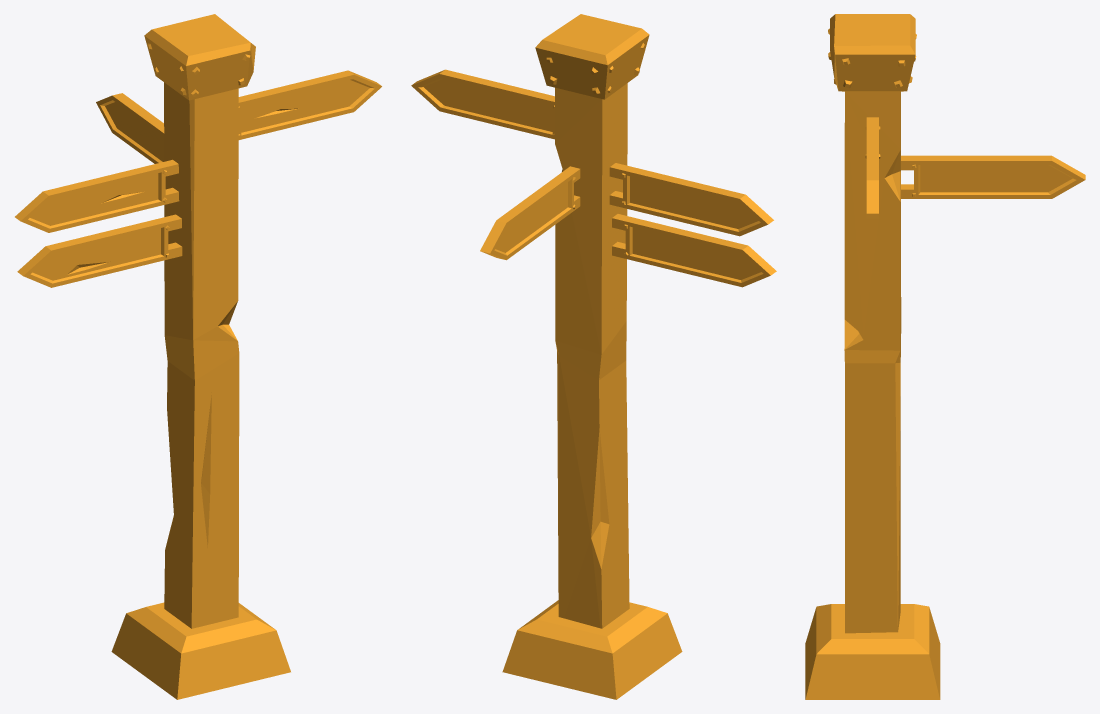
File: SM_Signpost_D_Fantasy.fbx
The picture shows the model from 3 angles, left to right: view 1: azimuth 30°, elevation 25°; view 2: azimuth 150°, elevation 25°; view 3: azimuth 270°, elevation 25°; orthographic projection. The views are drawn at different scales.
Visible parts, largest first — view 1: signpost-d-fantasy; view 2: signpost-d-fantasy; view 3: signpost-d-fantasy.
Boxes of the visible parts, box(x1,y1,x2,y2) form: signpost-d-fantasy: box(15, 14, 381, 699); signpost-d-fantasy: box(411, 14, 776, 699); signpost-d-fantasy: box(805, 14, 1085, 699).
Bounding box in the file's own units: 1.52 × 2.53 × 1.
